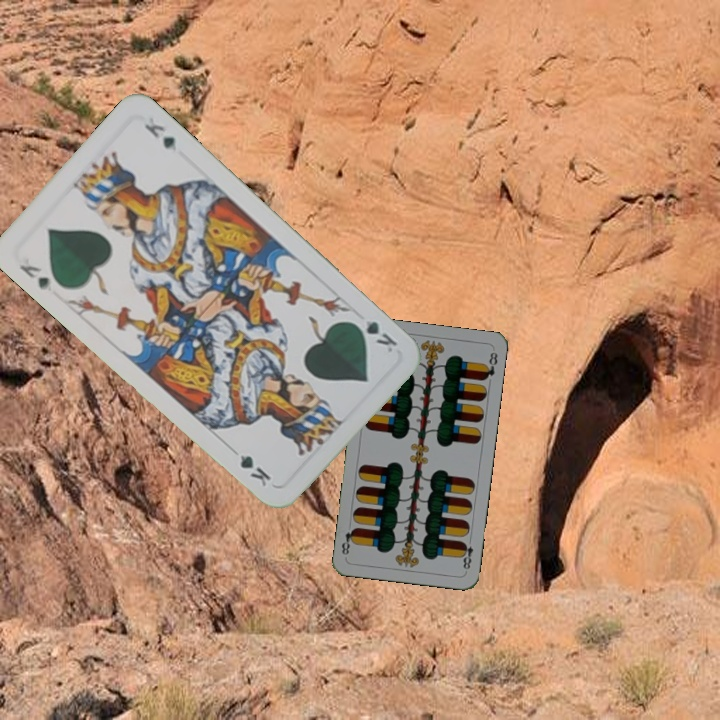E8: (457, 534, 476, 574)
GK: (347, 315, 400, 355), (15, 260, 52, 293)
